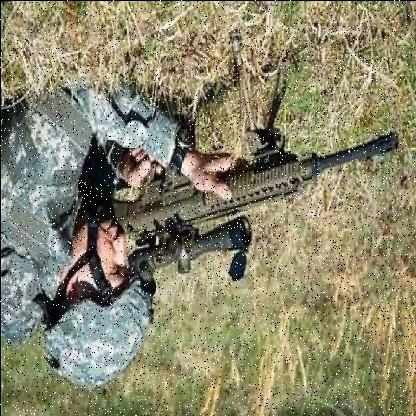rifle: (81, 97, 395, 291)
